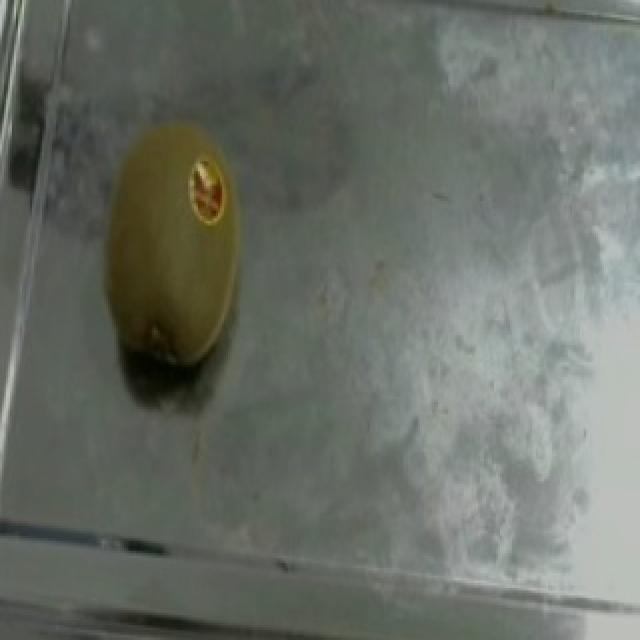Fruit: (74, 94, 266, 392)
